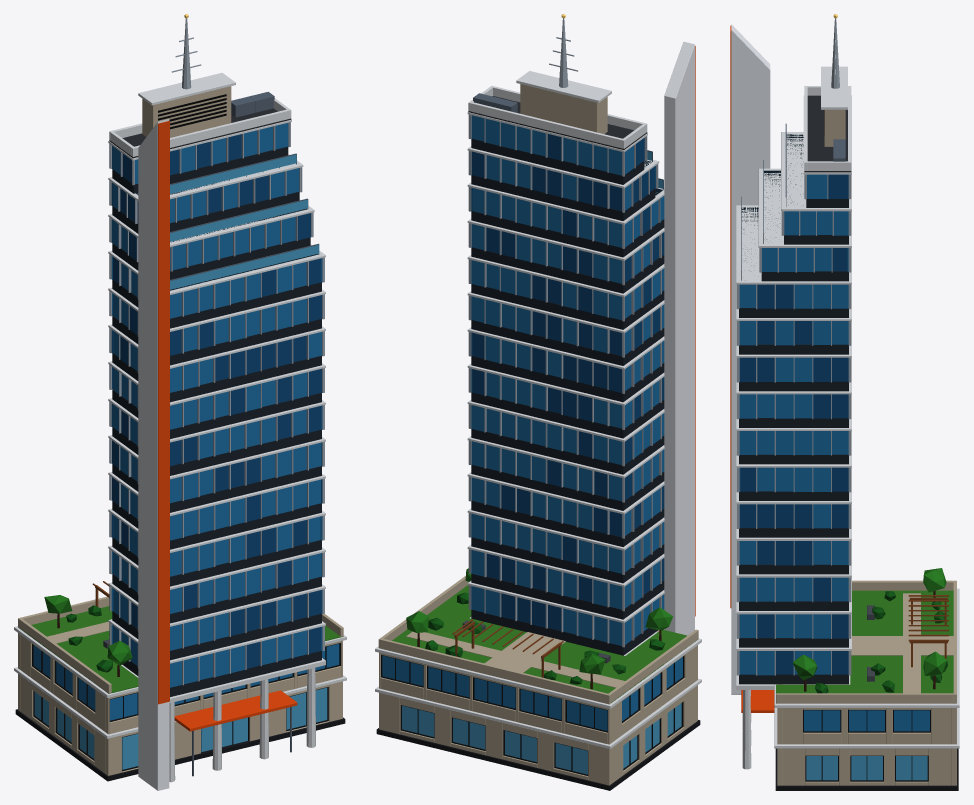
File: WL_Building_Commercial_A.obj
3 views of the same model, side by side, from view 1: azimuth 30°, elevation 25°; view 2: azimuth 150°, elevation 25°; view 3: azimuth 270°, elevation 25° (orthographic).
Visible parts, largest first — view 1: WL_Building_Commercial_A_Blade_Fin, WL_Building_Commercial_A_Blade_Accent, WL_Building_Commercial_A_Podium0_Walls, WL_Building_Commercial_A_Podium1_Walls, WL_Building_Commercial_A_Terrace_Rail_Glass, WL_Building_Commercial_A_Tower4_PanelsA, WL_Building_Commercial_A_Podium0_Glass, WL_Building_Commercial_A_Tower2_PanelsA, WL_Building_Commercial_A_Tower10_PanelsA, WL_Building_Commercial_A_Tower0_PanelsA, WL_Building_Commercial_A_Tower11_PanelsA, WL_Building_Commercial_A_Roof_Garden_Grass (+81 smaller); view 2: WL_Building_Commercial_A_Blade_Fin, WL_Building_Commercial_A_Podium0_Walls, WL_Building_Commercial_A_Podium1_Walls, WL_Building_Commercial_A_Roof_Garden_Grass, WL_Building_Commercial_A_Podium1_Glass, WL_Building_Commercial_A_Roof_Parapet, WL_Building_Commercial_A_Podium0_Glass, WL_Building_Commercial_A_Tower2_PanelsA, WL_Building_Commercial_A_Tower5_PanelsA, WL_Building_Commercial_A_Tower11_PanelsA, WL_Building_Commercial_A_Tower13_PanelsA, WL_Building_Commercial_A_Tower4_PanelsA (+75 smaller); view 3: WL_Building_Commercial_A_Blade_Fin, WL_Building_Commercial_A_Roof_Garden_Grass, WL_Building_Commercial_A_Podium0_Walls, WL_Building_Commercial_A_Podium1_Walls, WL_Building_Commercial_A_Roof_Parapet, WL_Building_Commercial_A_Roof_Garden_Paths, WL_Building_Commercial_A_Tower6_PanelsA, WL_Building_Commercial_A_Podium0_Glass, WL_Building_Commercial_A_Podium1_Glass, WL_Building_Commercial_A_Tower10_Slab, WL_Building_Commercial_A_Tower2_PanelsA, WL_Building_Commercial_A_Tower11_Slab (+72 smaller).
Part boxes in pixels (x1=…): WL_Building_Commercial_A_Blade_Fin: x1=138, y1=119, x2=169, y2=790; WL_Building_Commercial_A_Blade_Accent: x1=158, y1=121, x2=169, y2=704; WL_Building_Commercial_A_Podium0_Walls: x1=18, y1=674, x2=342, y2=775; WL_Building_Commercial_A_Podium1_Walls: x1=18, y1=633, x2=342, y2=734; WL_Building_Commercial_A_Terrace_Rail_Glass: x1=170, y1=154, x2=319, y2=289; WL_Building_Commercial_A_Tower4_PanelsA: x1=121, y1=479, x2=320, y2=540; WL_Building_Commercial_A_Podium0_Glass: x1=34, y1=687, x2=327, y2=769; WL_Building_Commercial_A_Tower2_PanelsA: x1=112, y1=551, x2=321, y2=613; WL_Building_Commercial_A_Tower10_PanelsA: x1=111, y1=256, x2=322, y2=318; WL_Building_Commercial_A_Tower0_PanelsA: x1=111, y1=625, x2=322, y2=687; WL_Building_Commercial_A_Tower11_PanelsA: x1=111, y1=216, x2=295, y2=271; WL_Building_Commercial_A_Roof_Garden_Grass: x1=19, y1=606, x2=343, y2=693; WL_Building_Commercial_A_Blade_Fin: x1=664, y1=41, x2=694, y2=635; WL_Building_Commercial_A_Podium0_Walls: x1=379, y1=685, x2=697, y2=785; WL_Building_Commercial_A_Podium1_Walls: x1=379, y1=630, x2=697, y2=744; WL_Building_Commercial_A_Roof_Garden_Grass: x1=392, y1=585, x2=695, y2=702; WL_Building_Commercial_A_Podium1_Glass: x1=382, y1=655, x2=682, y2=730; WL_Building_Commercial_A_Roof_Parapet: x1=378, y1=576, x2=698, y2=704; WL_Building_Commercial_A_Podium0_Glass: x1=402, y1=703, x2=681, y2=774; WL_Building_Commercial_A_Tower2_PanelsA: x1=471, y1=513, x2=664, y2=573; WL_Building_Commercial_A_Tower5_PanelsA: x1=471, y1=405, x2=664, y2=464; WL_Building_Commercial_A_Tower11_PanelsA: x1=472, y1=188, x2=664, y2=247; WL_Building_Commercial_A_Tower13_PanelsA: x1=471, y1=115, x2=633, y2=175; WL_Building_Commercial_A_Tower4_PanelsA: x1=471, y1=441, x2=664, y2=501; WL_Building_Commercial_A_Blade_Fin: x1=731, y1=24, x2=770, y2=694; WL_Building_Commercial_A_Roof_Garden_Grass: x1=776, y1=590, x2=953, y2=703; WL_Building_Commercial_A_Podium0_Walls: x1=777, y1=748, x2=956, y2=785; WL_Building_Commercial_A_Podium1_Walls: x1=777, y1=684, x2=956, y2=744; WL_Building_Commercial_A_Roof_Parapet: x1=776, y1=580, x2=956, y2=703; WL_Building_Commercial_A_Roof_Garden_Paths: x1=851, y1=593, x2=953, y2=693; WL_Building_Commercial_A_Tower6_PanelsA: x1=739, y1=431, x2=848, y2=454; WL_Building_Commercial_A_Podium0_Glass: x1=806, y1=756, x2=927, y2=780; WL_Building_Commercial_A_Podium1_Glass: x1=804, y1=710, x2=929, y2=731; WL_Building_Commercial_A_Tower10_Slab: x1=736, y1=205, x2=851, y2=284; WL_Building_Commercial_A_Tower2_PanelsA: x1=739, y1=577, x2=848, y2=601; WL_Building_Commercial_A_Tower11_Slab: x1=758, y1=168, x2=851, y2=247.
Size of the model in its own units: 24.5 by 70.22 by 20.43.
